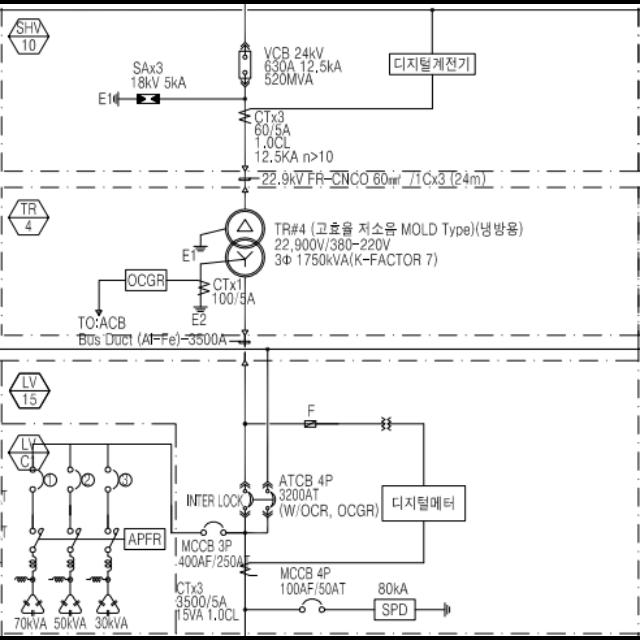CB: (240, 52, 250, 78)
CH: (242, 164, 248, 170), (242, 187, 248, 193)
CT: (239, 107, 251, 123), (240, 563, 250, 577)
GND: (112, 91, 120, 107), (192, 305, 208, 313), (443, 602, 451, 618), (192, 245, 208, 252)
LA: (136, 94, 160, 105)
MCCB: (105, 467, 119, 493), (202, 522, 226, 536), (300, 598, 324, 612), (30, 468, 44, 492), (68, 466, 80, 492)
PF2: (304, 420, 316, 428)
PT: (381, 416, 392, 430)
SC: (58, 594, 82, 616), (96, 595, 120, 617), (22, 594, 44, 616)
SR: (29, 556, 37, 572), (104, 556, 112, 572), (68, 556, 74, 572)
TR: (226, 208, 264, 278)
